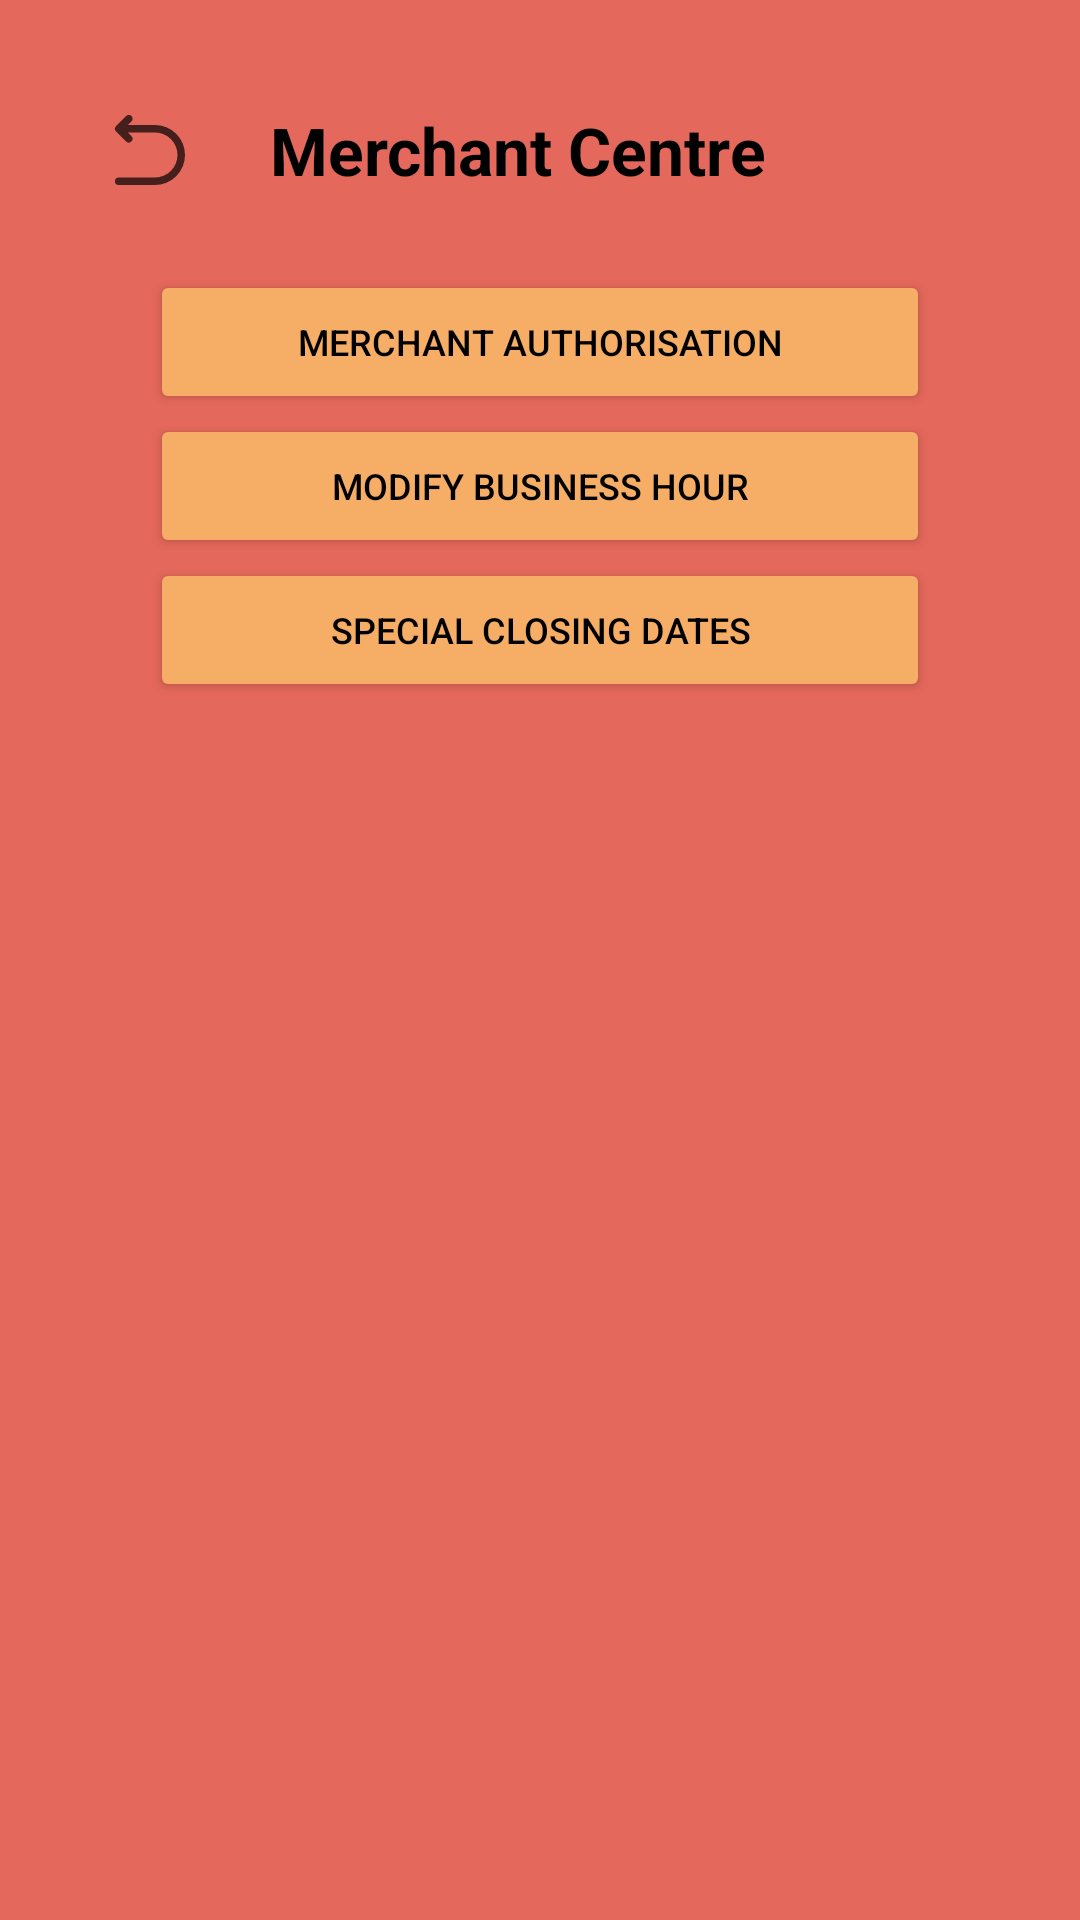

Icons on this 1080 × 1920 Android screen, each with its box as {"x1": x1, "y1": y1, "x2": x2, "y2": y2}:
back arrow: {"x1": 114, "y1": 115, "x2": 185, "y2": 185}
